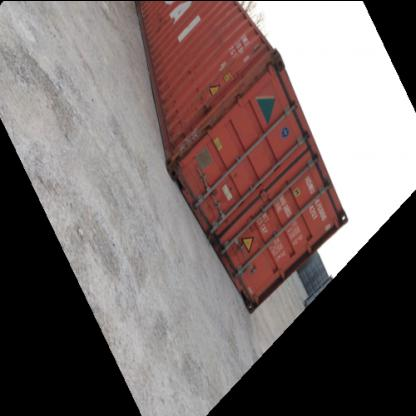Damage: (166, 91, 188, 137), (152, 7, 178, 39), (218, 171, 244, 197), (247, 40, 266, 63), (193, 86, 208, 113), (180, 62, 198, 82)
